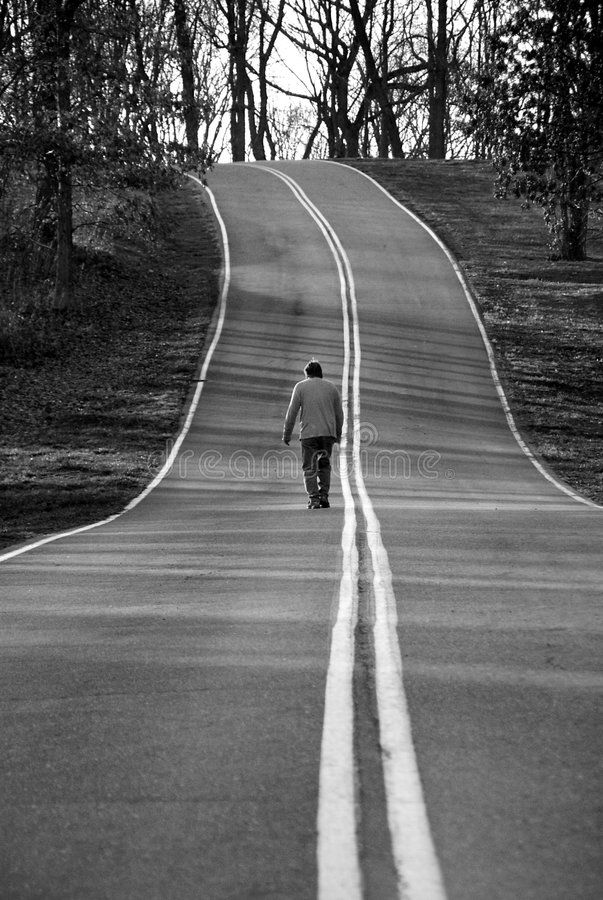Person: (272, 351, 356, 514)
